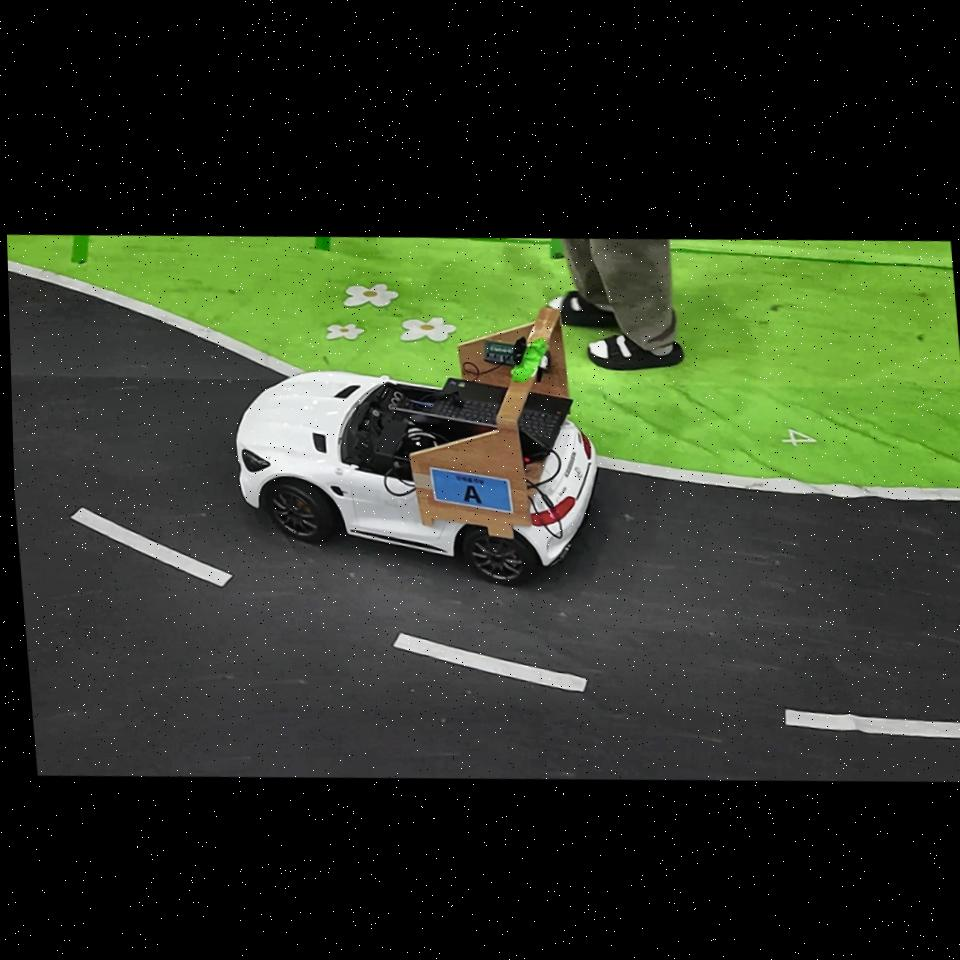broken_line: (70, 508, 233, 587), (393, 632, 588, 692), (785, 709, 960, 738)
